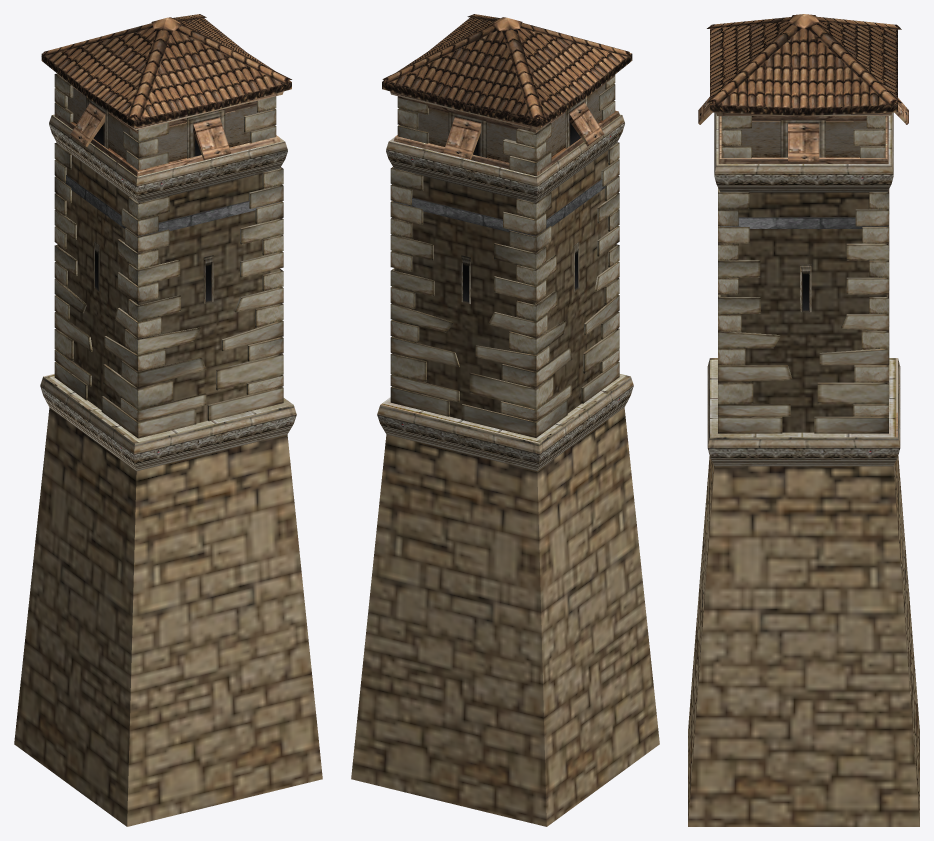
The model's file is sele_wall_tower.glb.
3 views of the same model, side by side, from view 1: azimuth 30°, elevation 25°; view 2: azimuth 150°, elevation 25°; view 3: azimuth 270°, elevation 25° (orthographic). The views are drawn at different scales.
Visible parts, largest first — view 1: sele_wall_tower_part0; view 2: sele_wall_tower_part0; view 3: sele_wall_tower_part0.
Boxes of the visible parts, left/top/right/bottom form: sele_wall_tower_part0: left=14, top=14, right=322, bottom=826; sele_wall_tower_part0: left=351, top=14, right=659, bottom=826; sele_wall_tower_part0: left=688, top=14, right=919, bottom=826.
Bounding box in the file's own units: 2.2 × 8 × 2.2.
Materials: 2 (2 with a texture image).
